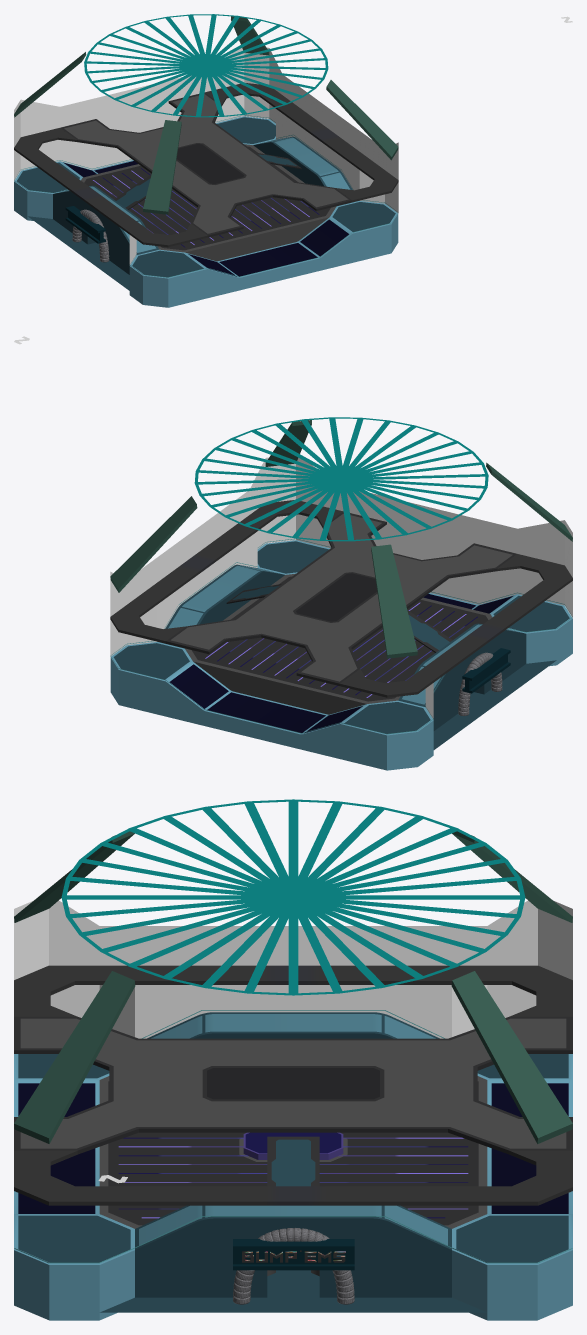
File: arena.002.gltf
The picture shows the model from 3 angles, top to bottom: view 1: azimuth 30°, elevation 25°; view 2: azimuth 150°, elevation 25°; view 3: azimuth 270°, elevation 25°; orthographic projection. The views are drawn at different scales.
Parts seen in each view (by area): view 1: arena.floor.corners.001, walls.main.002, arena.floor.main.003, Cylinder.003, walls.main.003, arena.floor.main.004, arena.sides.high.001, walls.main.004, arena.floor.main.002, Plane.002, ramp.spanner.001, stripes.001 (+3 smaller); view 2: arena.floor.corners.001, walls.main.002, arena.floor.main.003, Cylinder.003, walls.main.003, arena.floor.main.004, arena.sides.high.001, walls.main.004, arena.floor.main.002, Plane.002, ramp.spanner.001, stripes.001 (+3 smaller); view 3: arena.floor.main.003, arena.floor.corners.001, walls.main.002, Cylinder.003, arena.sides.high.001, walls.main.003, arena.floor.main.004, walls.main.004, Plane.002, Cube.002, stripes.001, ramp.spanner.001 (+3 smaller).
Part boxes in pixels (<box>): arena.floor.corners.001: <box>14,116,398,307</box>; walls.main.002: <box>14,47,398,264</box>; arena.floor.main.003: <box>60,92,352,237</box>; Cylinder.003: <box>84,14,328,117</box>; walls.main.003: <box>14,83,398,247</box>; arena.floor.main.004: <box>81,144,336,252</box>; arena.sides.high.001: <box>53,136,359,274</box>; walls.main.004: <box>14,16,398,214</box>; arena.floor.main.002: <box>185,217,328,261</box>; Plane.002: <box>28,216,129,290</box>; ramp.spanner.001: <box>114,152,301,209</box>; stripes.001: <box>93,168,319,247</box>; arena.floor.corners.001: <box>110,540,572,770</box>; walls.main.002: <box>110,457,572,719</box>; arena.floor.main.003: <box>166,511,516,685</box>; Cylinder.003: <box>194,417,488,541</box>; walls.main.003: <box>110,500,572,697</box>; arena.floor.main.004: <box>185,573,492,703</box>; arena.sides.high.001: <box>157,564,526,730</box>; walls.main.004: <box>110,420,572,658</box>; arena.floor.main.002: <box>193,661,366,714</box>; Plane.002: <box>433,660,556,749</box>; ramp.spanner.001: <box>226,584,452,652</box>; stripes.001: <box>205,602,477,697</box>; arena.floor.main.003: <box>14,1016,572,1154</box>; arena.floor.corners.001: <box>14,1054,572,1320</box>; walls.main.002: <box>14,900,572,1038</box>; Cylinder.003: <box>61,799,525,995</box>; arena.sides.high.001: <box>135,1012,451,1297</box>; walls.main.003: <box>14,965,572,1205</box>; arena.floor.main.004: <box>99,1076,487,1228</box>; walls.main.004: <box>14,831,572,1143</box>; Plane.002: <box>100,1270,486,1312</box>; Cube.002: <box>233,1239,354,1270</box>; stripes.001: <box>118,1137,468,1218</box>; ramp.spanner.001: <box>267,1136,319,1186</box>.
Size of what is drawn, in the model's own units: 112 by 39.54 by 64.
Materials: 4 (3 with a texture image).
